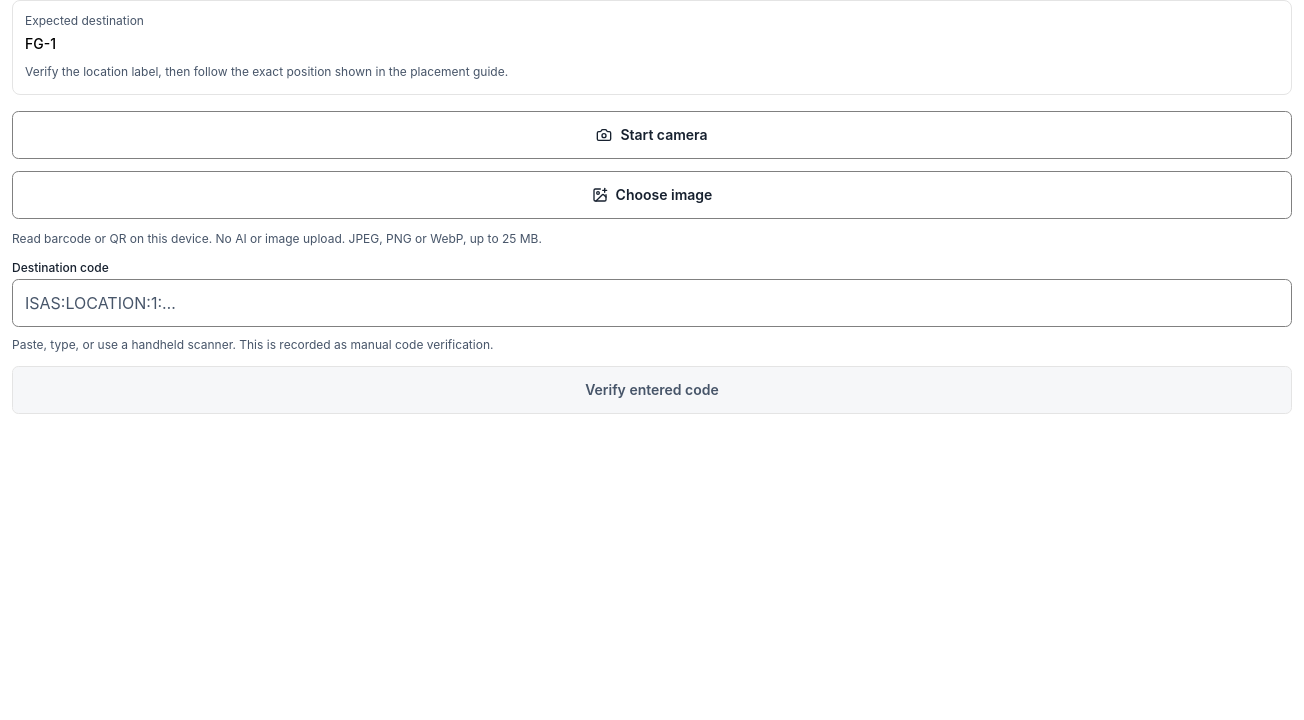
Test: DestinationScanner › ignores ordinary no-code frames but reports unexpected reader errors
Click the button "Start camera": x=652, y=134 [12,110,1292,158]
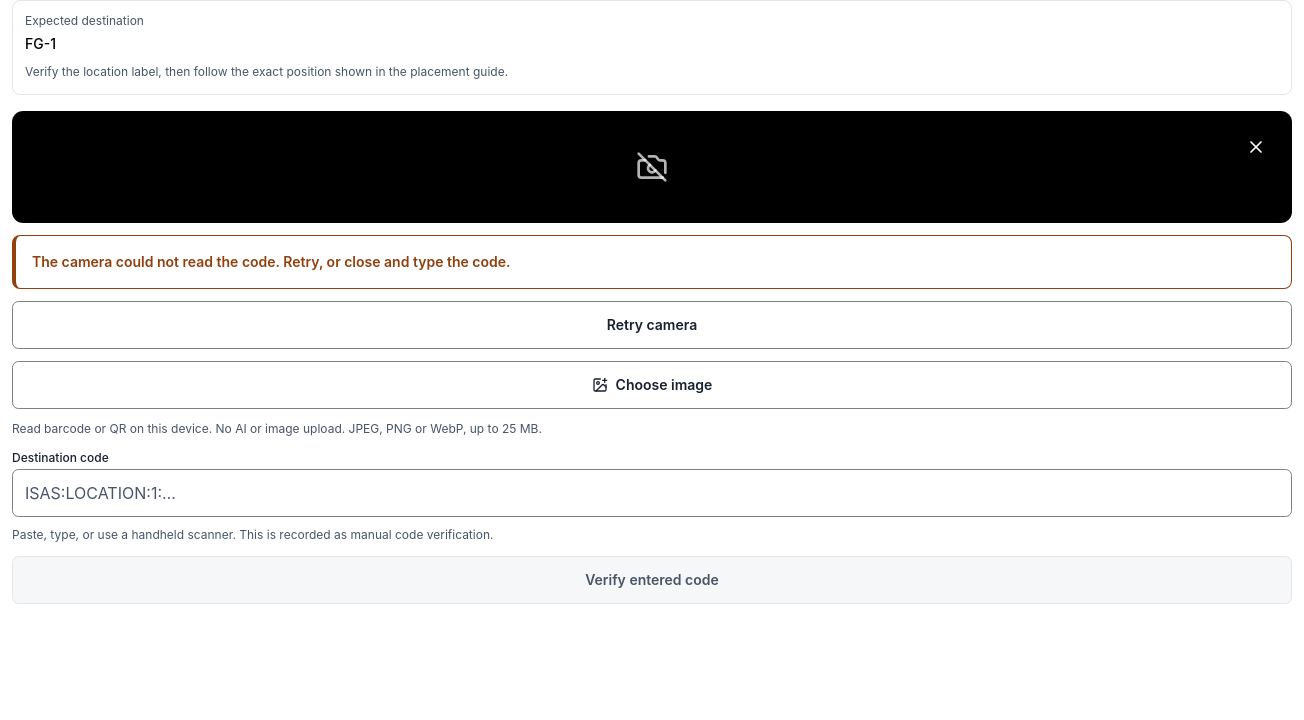
Expected: the message shows "could not read the code", [32,252,510,270]
